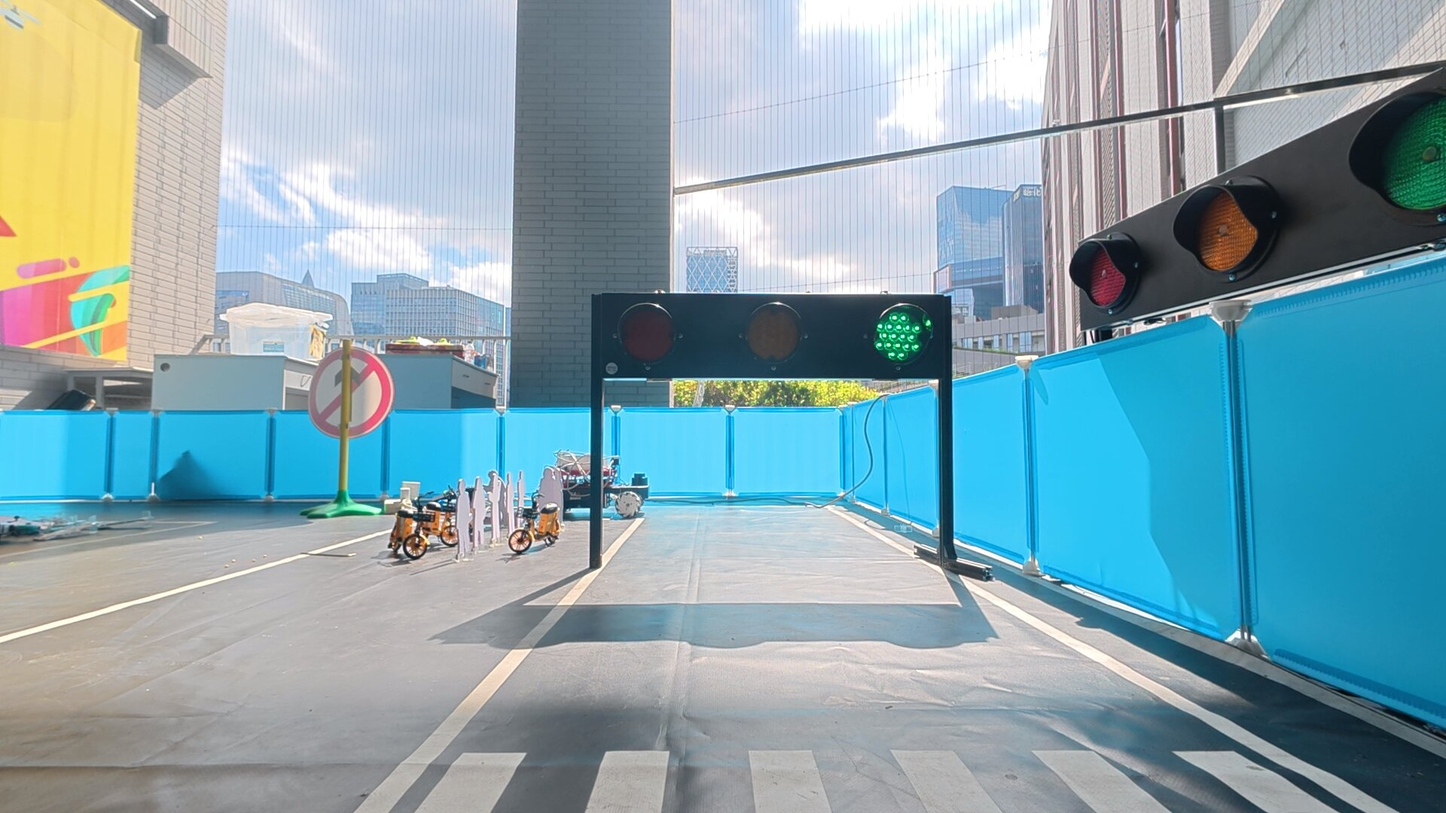go: (872, 304, 935, 369)
